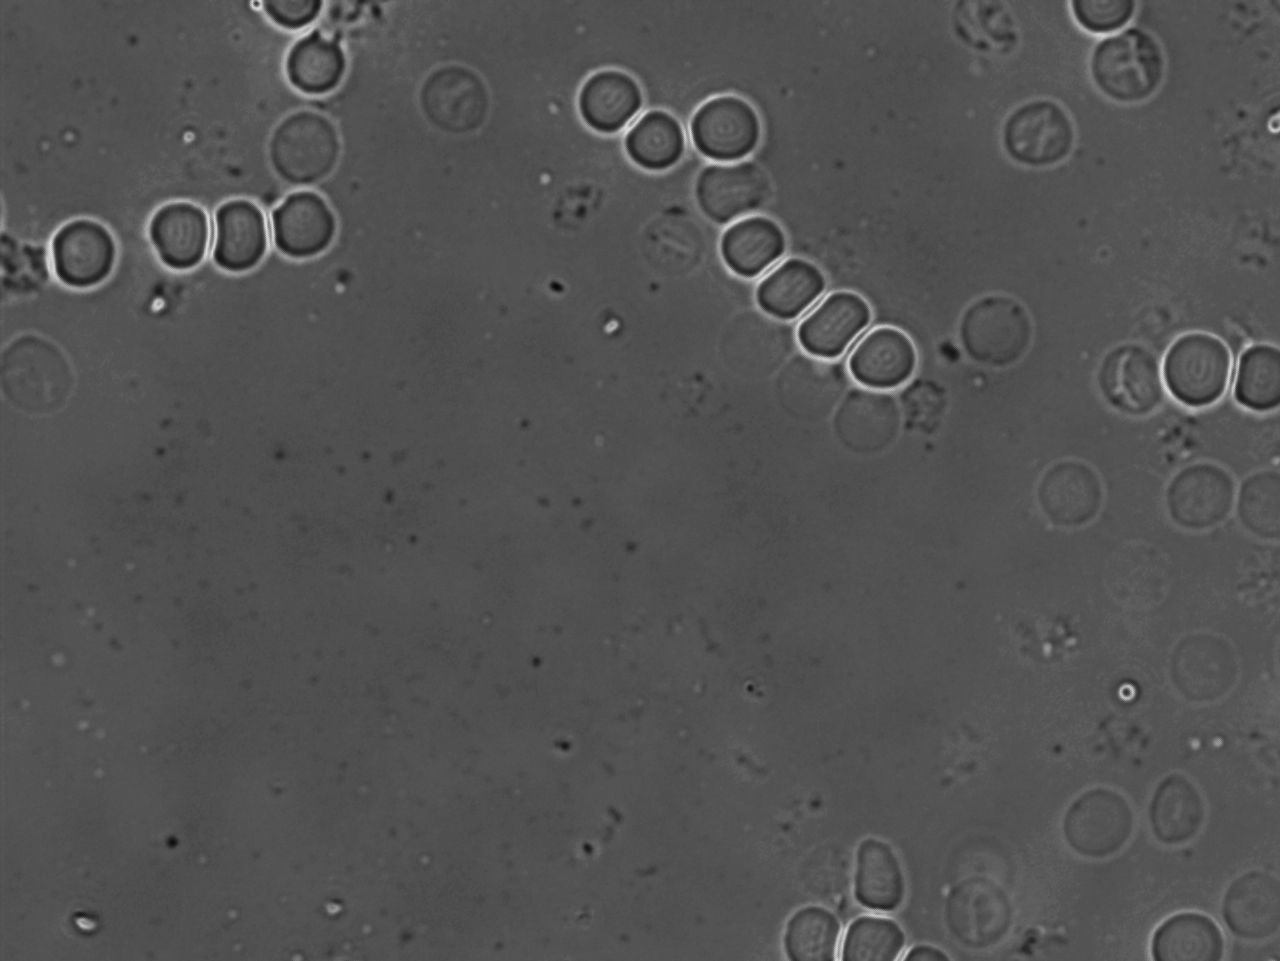depth:0: (673, 79, 776, 171), (705, 195, 802, 291), (837, 309, 931, 408), (785, 266, 877, 367), (38, 205, 130, 305), (1151, 320, 1243, 418), (565, 58, 661, 150), (193, 183, 283, 282), (266, 21, 365, 107), (250, 180, 346, 268), (132, 189, 216, 278), (259, 102, 345, 188), (617, 99, 698, 185), (766, 893, 862, 961), (751, 242, 830, 322), (831, 895, 921, 961), (1134, 902, 1234, 961), (1229, 326, 1280, 422)
